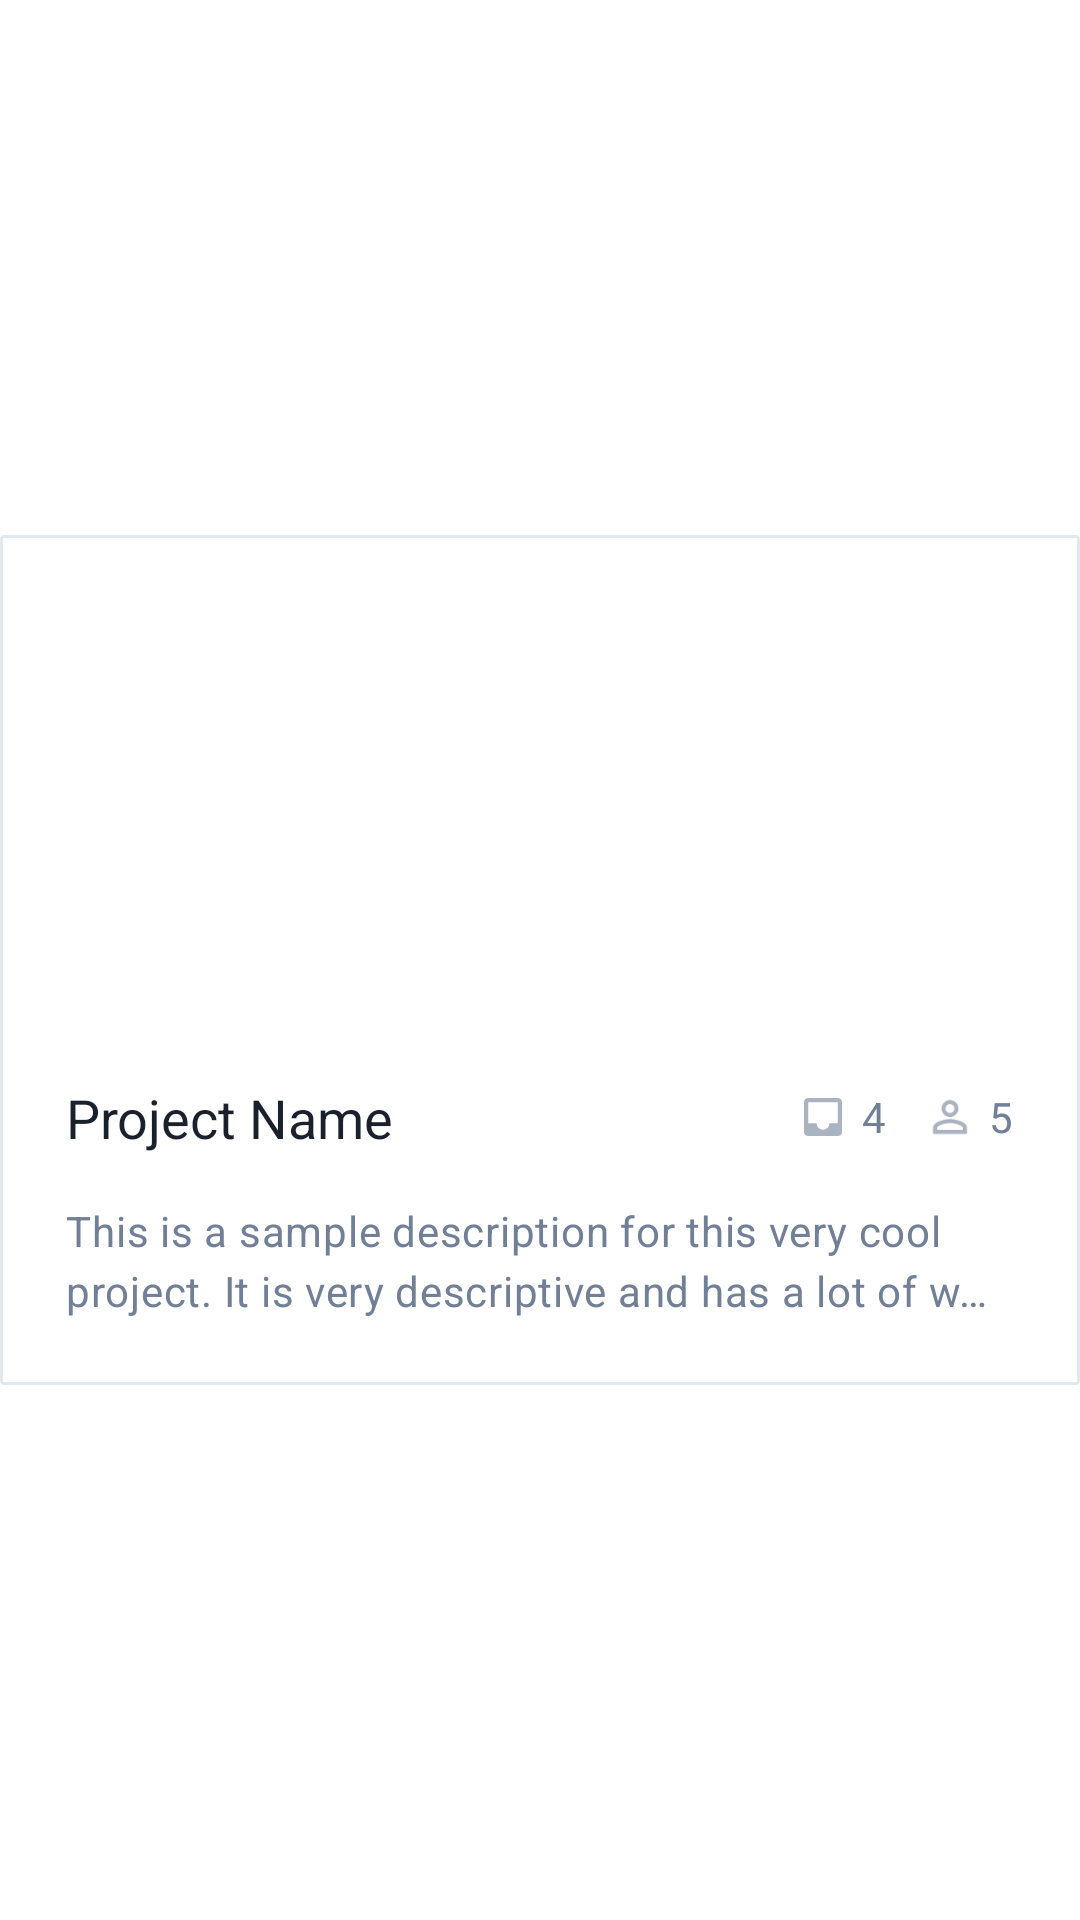

Where icons sit on this 1080px×1920px app screen, as (x1, y1, x2, y2):
box: (804, 1098, 842, 1136)
person: (933, 1100, 967, 1134)
